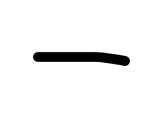minus: (33, 52, 130, 66)
